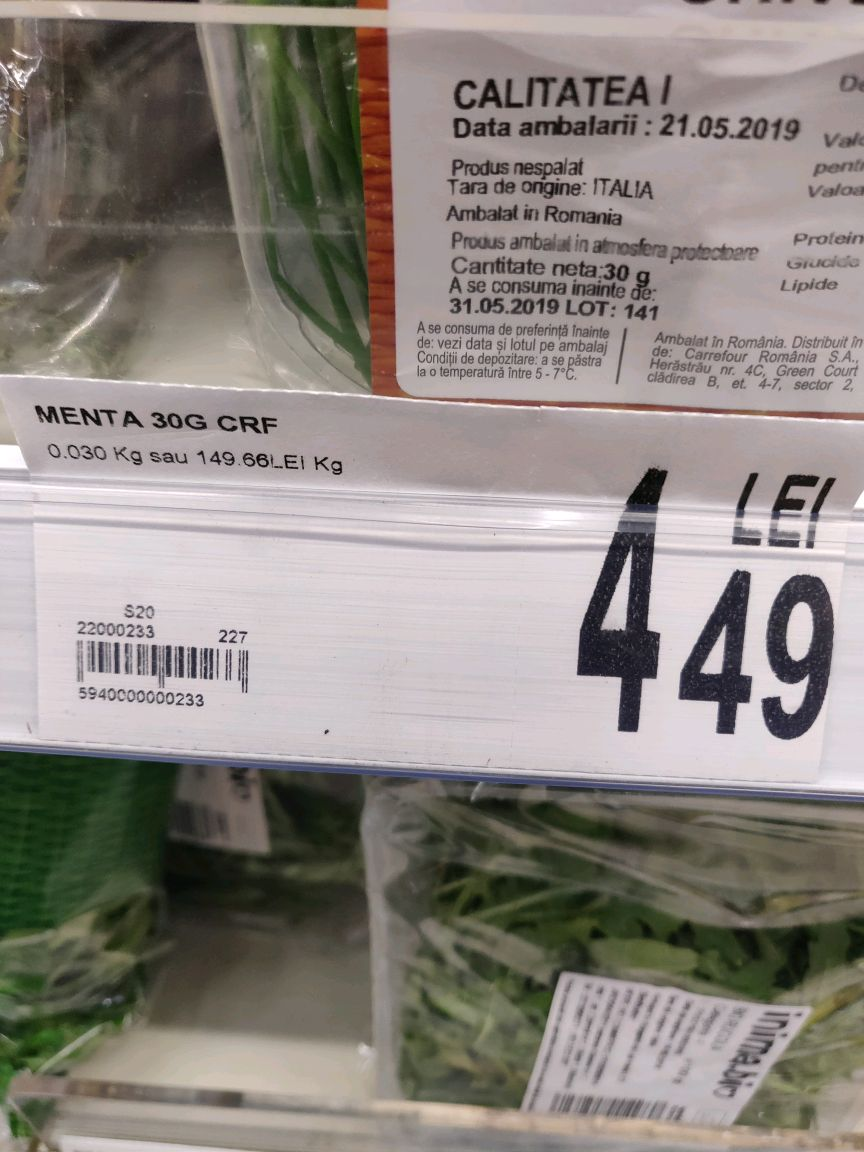price_bani: (670, 556, 839, 760)
price_lei: (552, 456, 677, 743)
price_tag: (1, 363, 856, 790)
product_id: (71, 682, 211, 717)
product_name: (24, 393, 284, 444)
